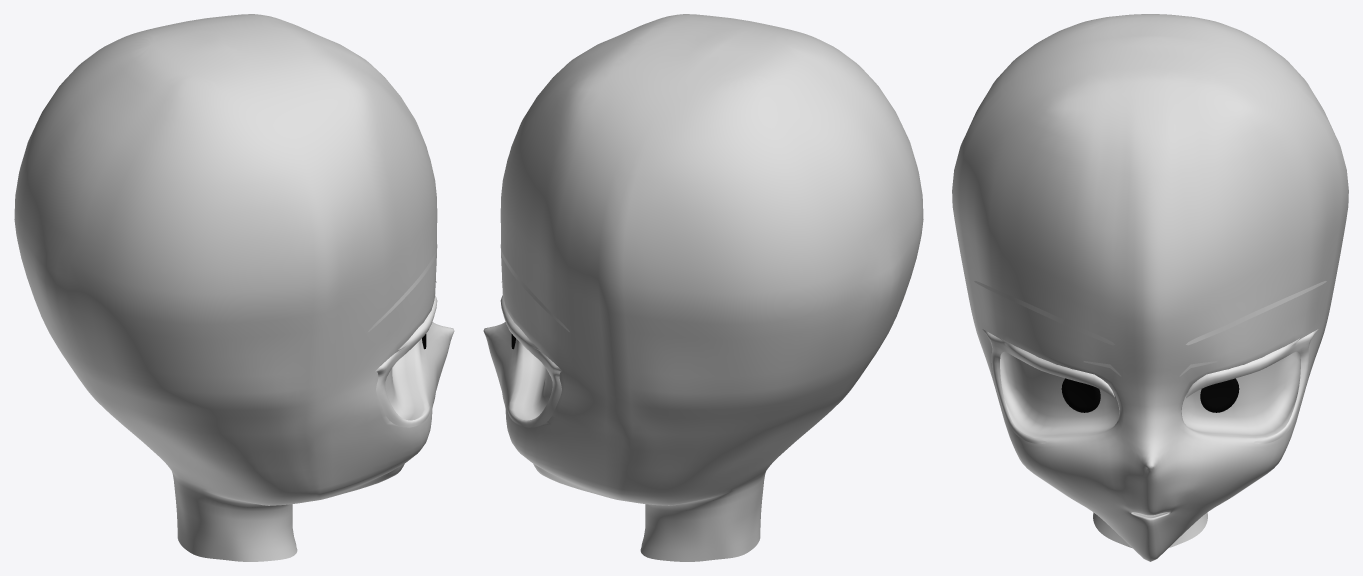
The model's file is Eyeball.fbx.
The picture shows the model from 3 angles, left to right: view 1: azimuth 30°, elevation 25°; view 2: azimuth 150°, elevation 25°; view 3: azimuth 270°, elevation 25°; orthographic projection. The views are drawn at different scales.
Parts seen in each view (by area): view 1: text, Eyelashes; view 2: text, Eyelashes; view 3: text, Eyelashes, EyeText, text.002.
Boxes of the visible parts, box(x1,y1,x2,y2) form: text: box(14, 14, 454, 561); Eyelashes: box(375, 295, 437, 427); text: box(483, 14, 923, 561); Eyelashes: box(500, 295, 562, 427); text: box(952, 14, 1348, 561); Eyelashes: box(982, 329, 1318, 443); EyeText: box(1061, 378, 1239, 412); text.002: box(974, 281, 1326, 345).
Bounding box in the file's own units: 29.98 × 35.93 × 26.87.
Materials: 5 (1 with a texture image).
